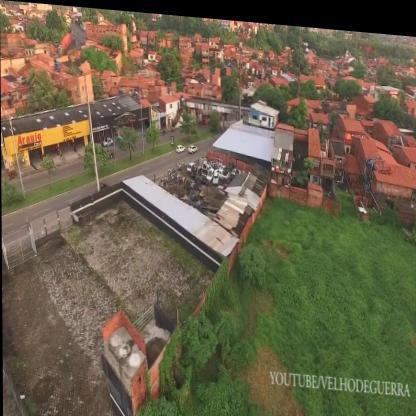lixo: (191, 153, 232, 186), (168, 168, 204, 203)
